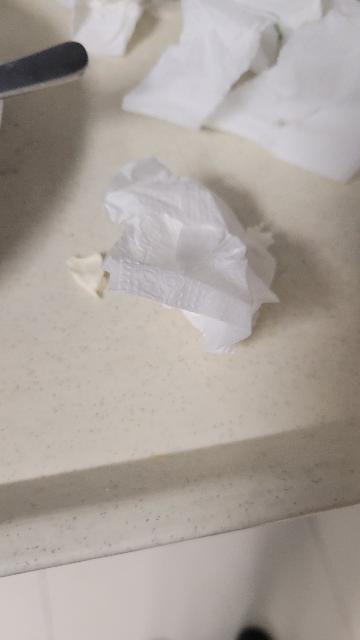Kagit: (102, 149, 281, 351)
